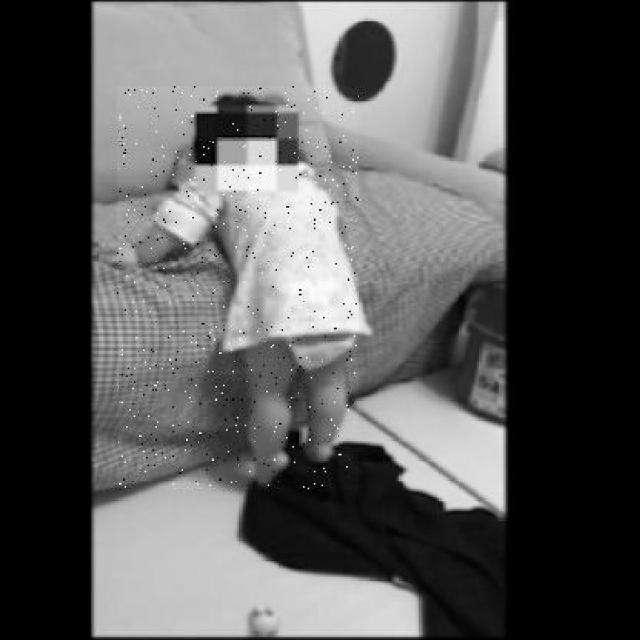child: (117, 86, 360, 489)
